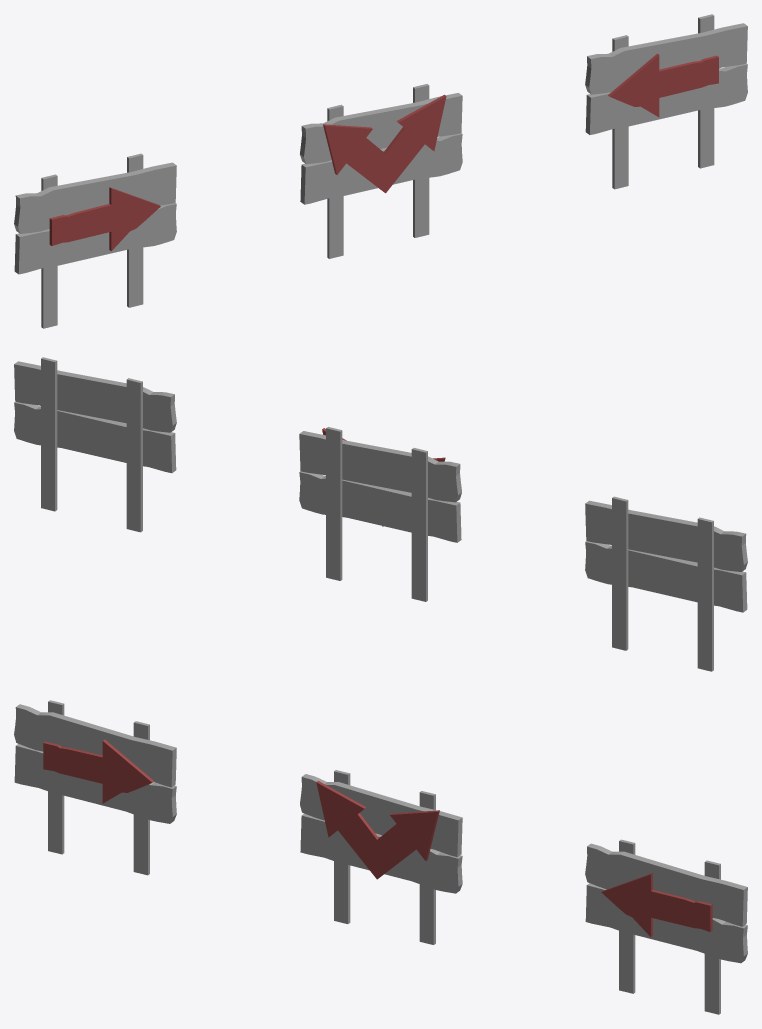
The model's file is Signs.fbx.
3 views of the same model, one above another, from view 1: azimuth 30°, elevation 25°; view 2: azimuth 150°, elevation 25°; view 3: azimuth 330°, elevation 25° (orthographic).
Parts seen in each view (by area): view 1: Sign_Split, Sign_Right, Sign_Left; view 2: Sign_Split, Sign_Right, Sign_Left; view 3: Sign_Split, Sign_Left, Sign_Right.
Boxes of the visible parts, left/top/right/bottom form: Sign_Split: left=300, top=84, right=462, bottom=258; Sign_Right: left=14, top=153, right=176, bottom=328; Sign_Left: left=585, top=14, right=747, bottom=189; Sign_Split: left=299, top=427, right=461, bottom=601; Sign_Right: left=585, top=496, right=747, bottom=671; Sign_Left: left=14, top=357, right=176, bottom=532; Sign_Split: left=300, top=770, right=462, bottom=944; Sign_Left: left=585, top=839, right=747, bottom=1014; Sign_Right: left=14, top=700, right=176, bottom=875.
Bounding box in the file's own units: 5.11 × 1 × 0.1053.
